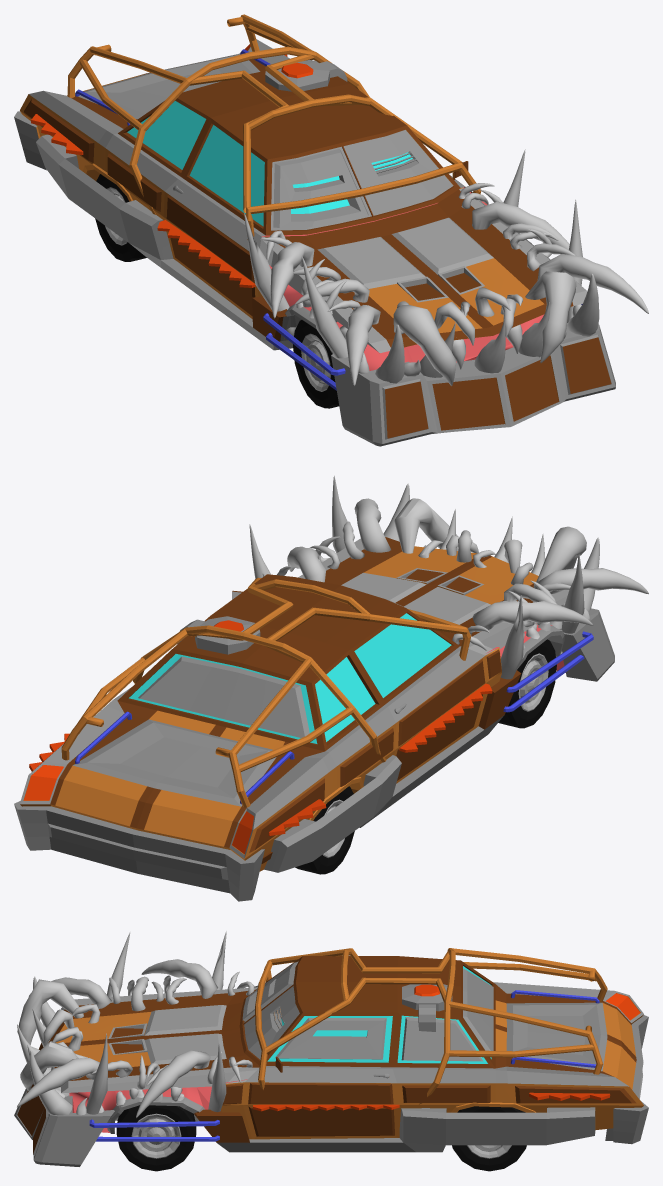
File: monster_car_v6 (1).fbx
3 renders of one model, top to bottom at view 1: azimuth 30°, elevation 25°; view 2: azimuth 150°, elevation 25°; view 3: azimuth 270°, elevation 25°, orthographic. The views are drawn at different scales.
Visible parts, largest first — view 1: monster-car, ust_agız.001, dıs_alt_1, monster-car.001, dıs-25, dıs-16, on_tekerler, dıs-26, dıs-33, dıs-3, dıs_alt_1.005, dıs-14 (+9 smaller); view 2: monster-car, ust_agız.001, monster-car.001, dıs_alt_1, on_tekerler, dıs-3, dıs-25, dıs-14, dıs-16, arka_tekerler, dıs-26, alt_agız.001 (+4 smaller); view 3: monster-car, ust_agız.001, dıs_alt_1, monster-car.001, on_tekerler, arka_tekerler, dıs-16, dıs-33, dıs-26, dıs-3, dıs-25, dıs_alt_1.015 (+8 smaller).
Part boxes in pixels (x1,y1,x2,y2): monster-car: [14, 14, 487, 350]; ust_agız.001: [260, 187, 586, 352]; dıs_alt_1: [252, 296, 615, 446]; monster-car.001: [75, 53, 260, 119]; dıs-25: [525, 271, 576, 362]; dıs-16: [393, 304, 456, 385]; on_tekerler: [293, 320, 339, 408]; dıs-26: [537, 254, 648, 313]; dıs-33: [472, 201, 569, 249]; dıs-3: [270, 242, 314, 318]; dıs_alt_1.005: [302, 256, 347, 358]; dıs-14: [345, 305, 380, 385]; monster-car: [14, 574, 504, 901]; ust_agız.001: [298, 498, 584, 655]; monster-car.001: [73, 719, 276, 806]; dıs_alt_1: [478, 608, 614, 729]; on_tekerler: [498, 639, 556, 728]; dıs-3: [472, 601, 593, 630]; dıs-25: [394, 498, 458, 553]; dıs-14: [533, 568, 648, 594]; dıs-16: [536, 526, 586, 582]; arka_tekerler: [295, 786, 354, 874]; dıs-26: [354, 498, 390, 552]; alt_agız.001: [500, 595, 523, 679]; monster-car: [197, 948, 648, 1152]; ust_agız.001: [48, 987, 259, 1093]; dıs_alt_1: [14, 1043, 249, 1166]; monster-car.001: [506, 1002, 607, 1071]; on_tekerler: [116, 1105, 196, 1171]; arka_tekerler: [452, 1106, 526, 1171]; dıs-16: [17, 979, 83, 1044]; dıs-33: [136, 1050, 210, 1117]; dıs-26: [17, 1058, 99, 1107]; dıs-3: [141, 959, 217, 998]; dıs-25: [20, 1041, 78, 1090]; dıs_alt_1.015: [86, 1033, 107, 1114].
Size of the model in its own units: 244 by 150 by 526.
